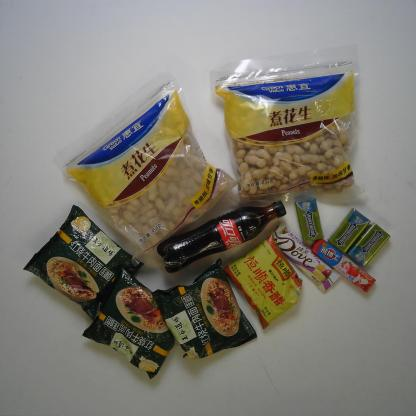Candy: (310, 237, 378, 295)
Chocolate: (268, 222, 341, 295)
Dried Food: (48, 67, 243, 267), (208, 43, 366, 204)
Drink: (155, 198, 288, 274)
Gum: (344, 220, 392, 269), (325, 207, 372, 255), (294, 197, 325, 243)
Instant Noodles: (22, 204, 145, 322), (150, 257, 258, 362), (79, 266, 176, 381)
Seasoner: (222, 230, 304, 331)
